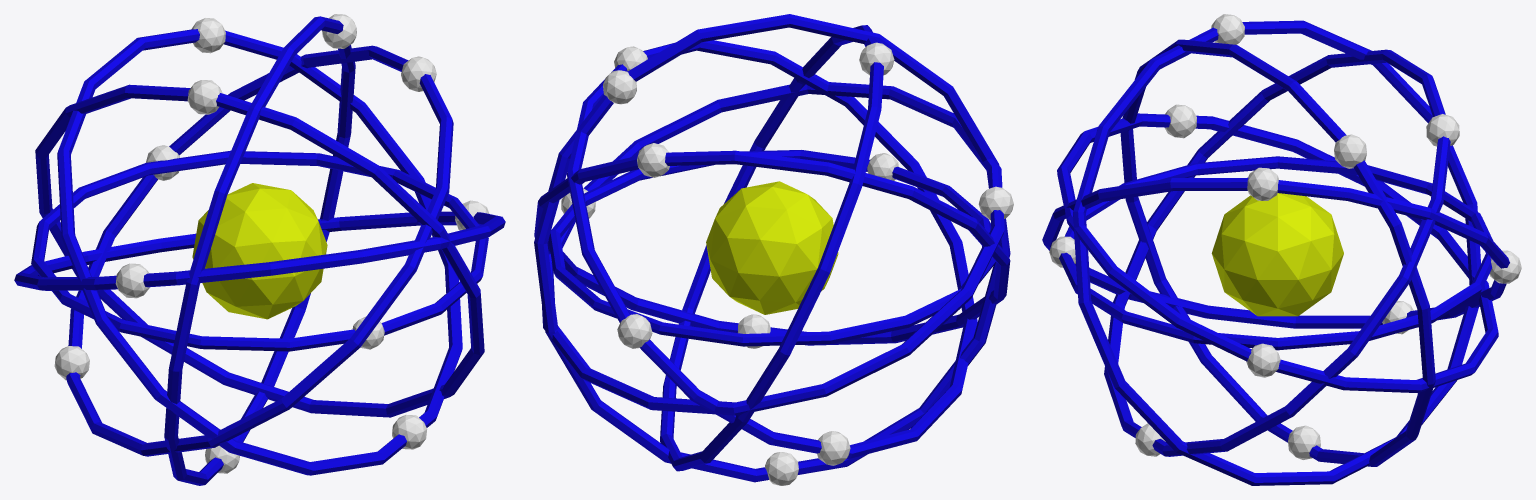
3 views of the same model, side by side, from view 1: azimuth 30°, elevation 25°; view 2: azimuth 150°, elevation 25°; view 3: azimuth 270°, elevation 25° (orthographic). The views are drawn at different scales.
Parts seen in each view (by area): view 1: Element; view 2: Element; view 3: Element.
Part boxes in pixels (x1,y1,x2,y2): Element: (14,14,505,485); Element: (534,14,1013,485); Element: (1042,14,1521,485).
Bounding box in the file's own units: 63 × 61.77 × 62.85.
